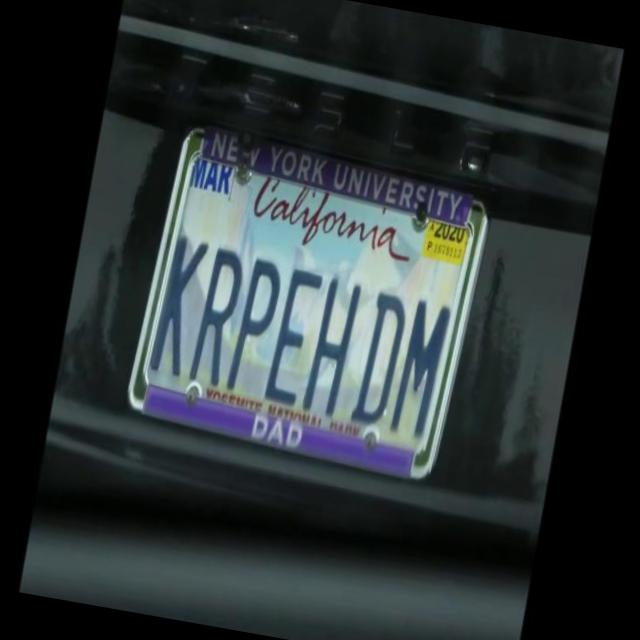LicensePlate: (132, 123, 490, 481)
